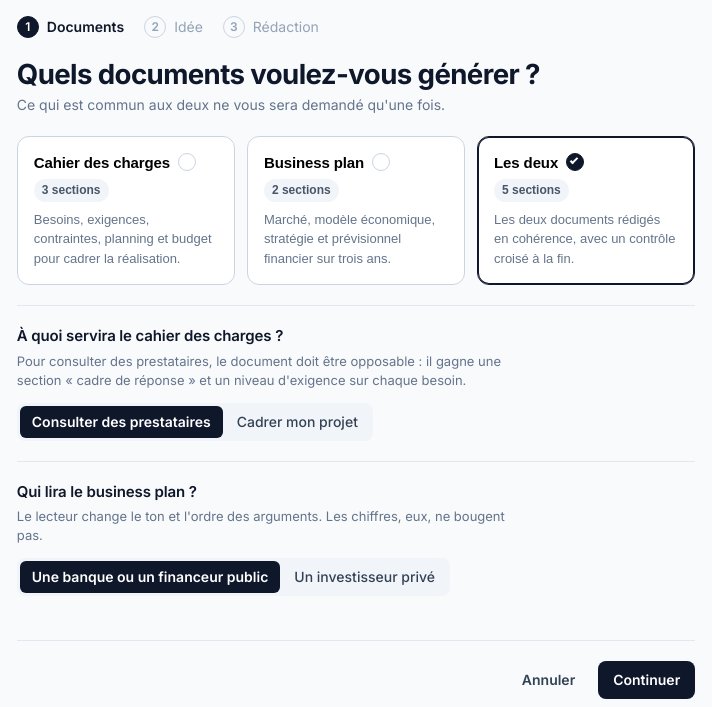
Test case: la création d'un projet › annonce le nombre de sections du profil choisi
Expected: the radio button labelled "Cahier des charges" shows "3 sections", [17,136,235,285]
Click the radio button labelled "Cadrer mon projet" at (297, 422), box [225,406,370,438]
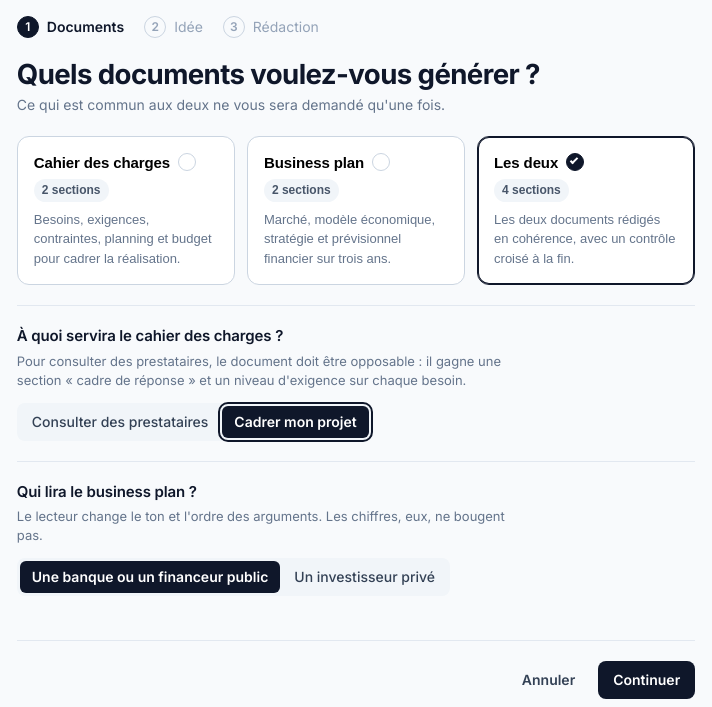
Expected: the radio button labelled "Cahier des charges" shows "2 sections", [17,136,235,285]
